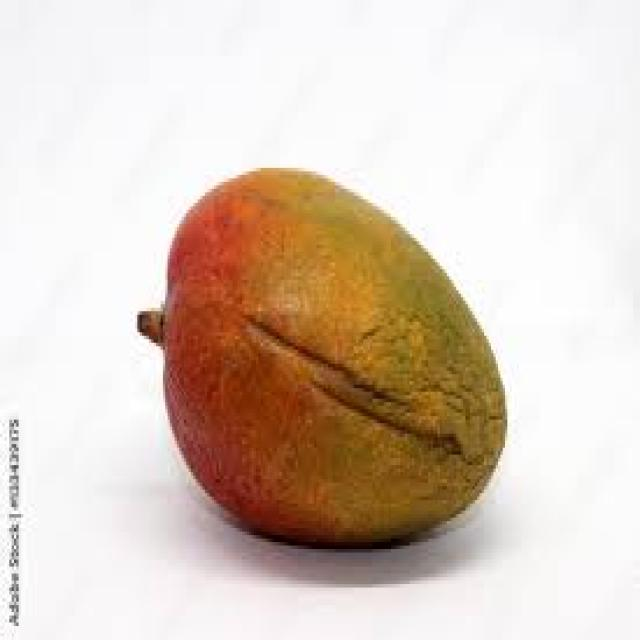Mango: (153, 179, 496, 547)
